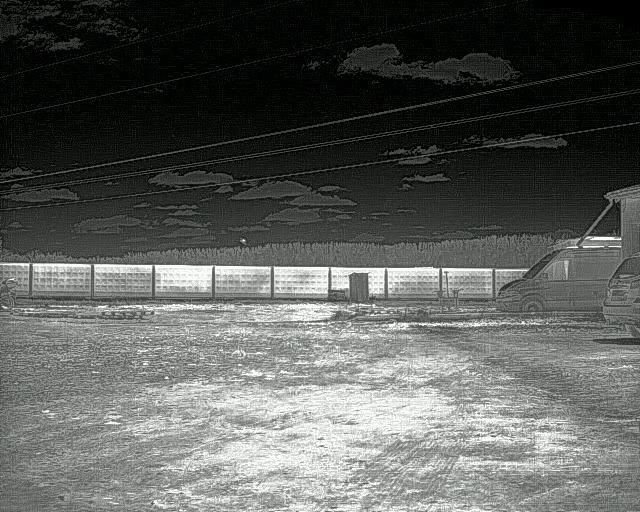ufo-thermal: (236, 234, 252, 247)
